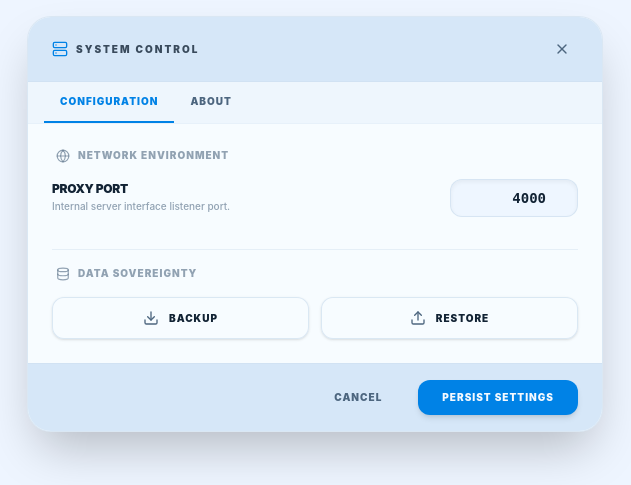
Test case: SettingsModal › changes proxy port value
Click the number field showing "4000" at (514, 198), box [450,179,578,217]
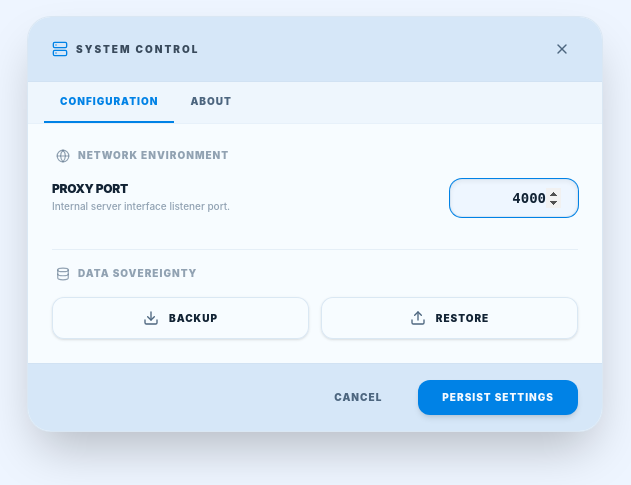
Type keys "9090"
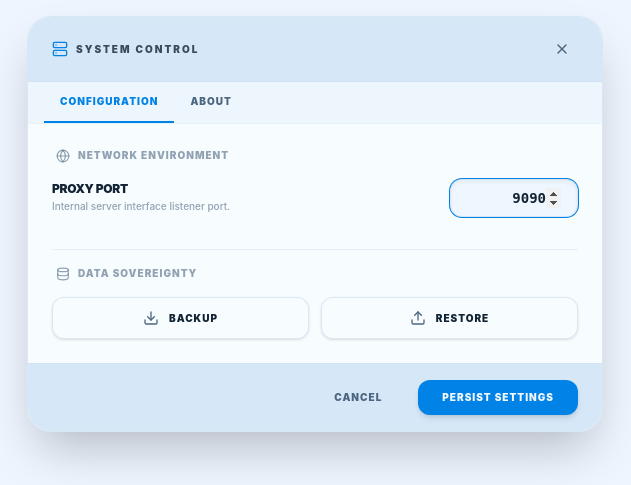
Check: the number field showing "9090" is shown, box [450,179,578,217]
